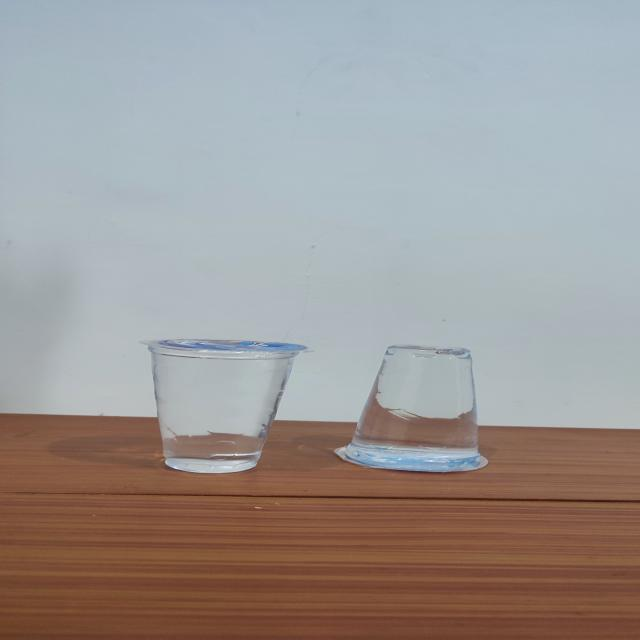air gelas: (131, 332, 314, 479), (321, 342, 504, 475)
